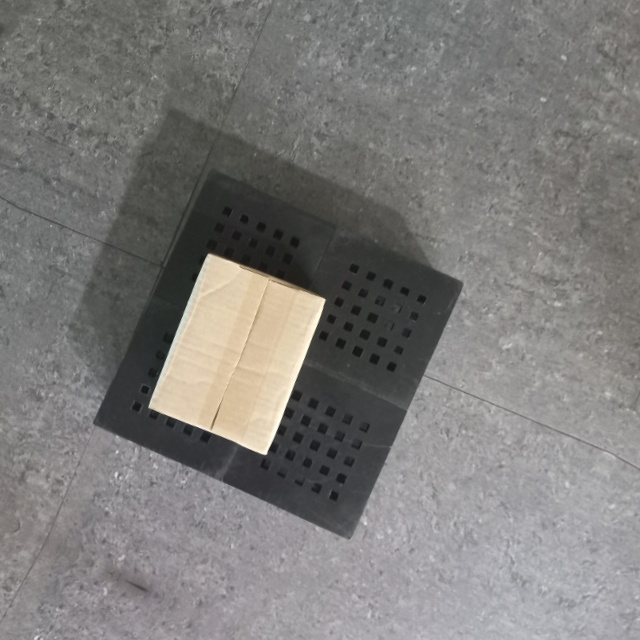box: (146, 251, 327, 461)
pallet: (87, 160, 468, 547)
